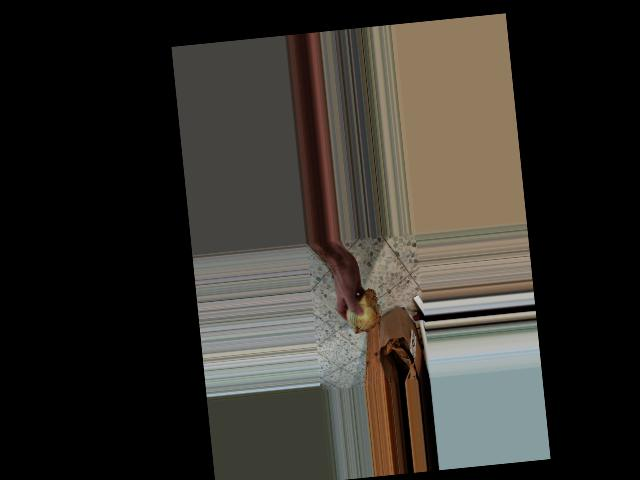onion: (342, 286, 383, 336)
